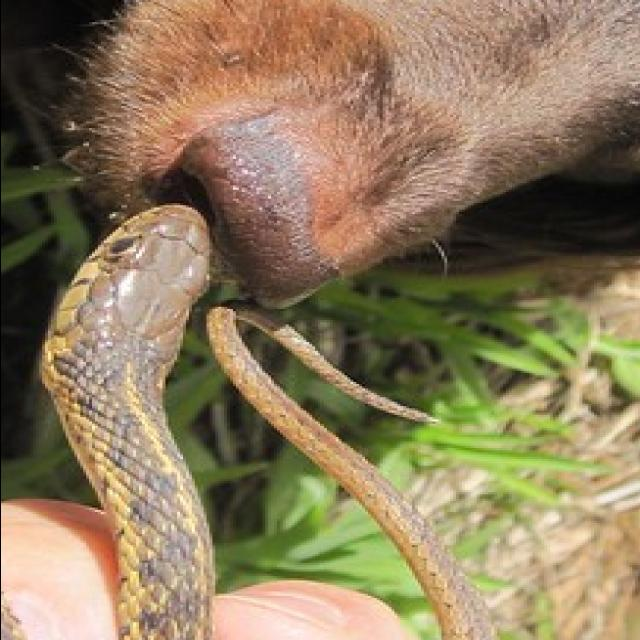Snake: (0, 203, 505, 640)
